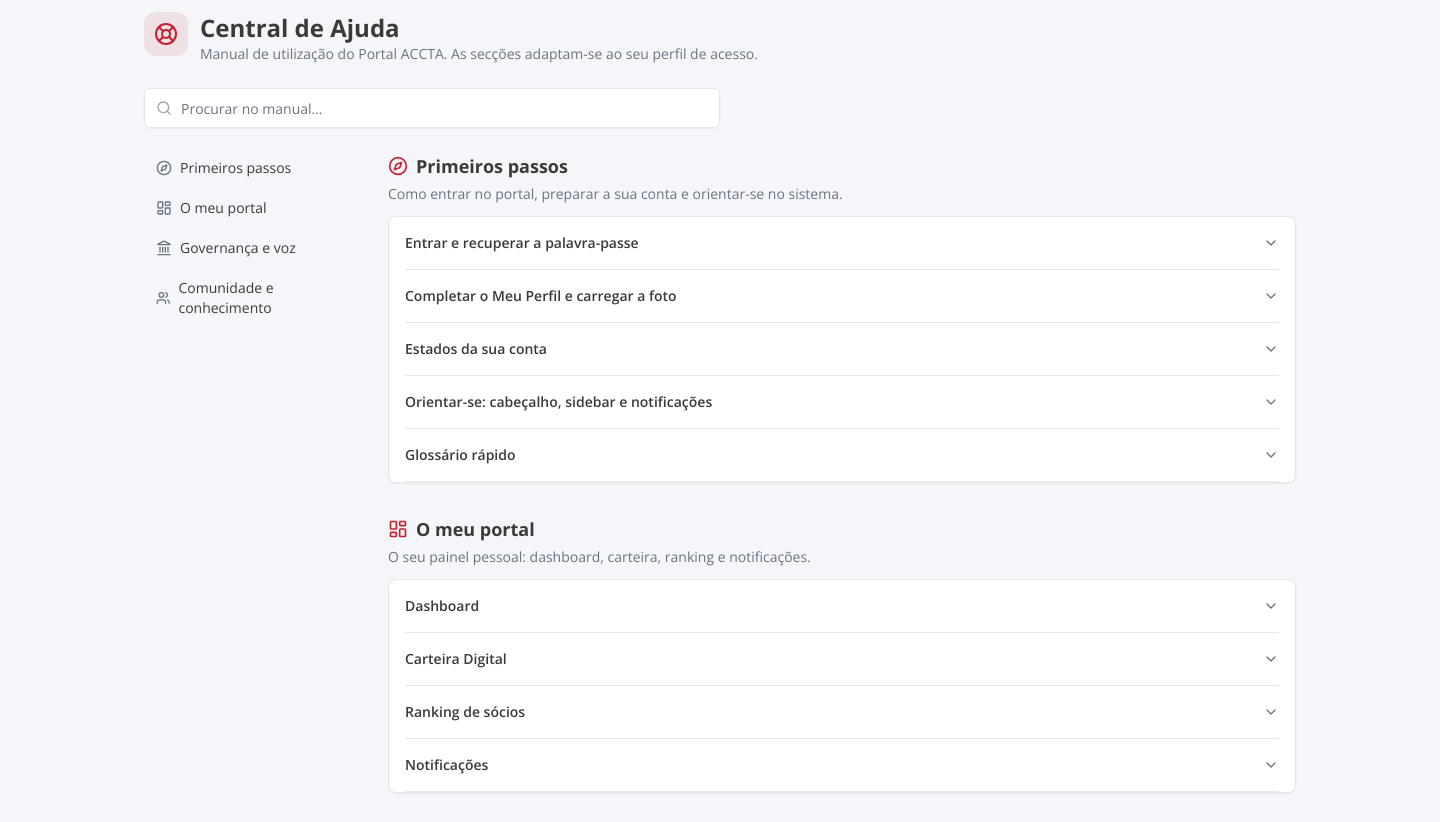
it: pesquisa sem resultados mostra estado vazio
Type "zzz-nao-existe-xpto" into the search field with test id "ajuda-search" at (432, 108), box 144,88 -> 720,128
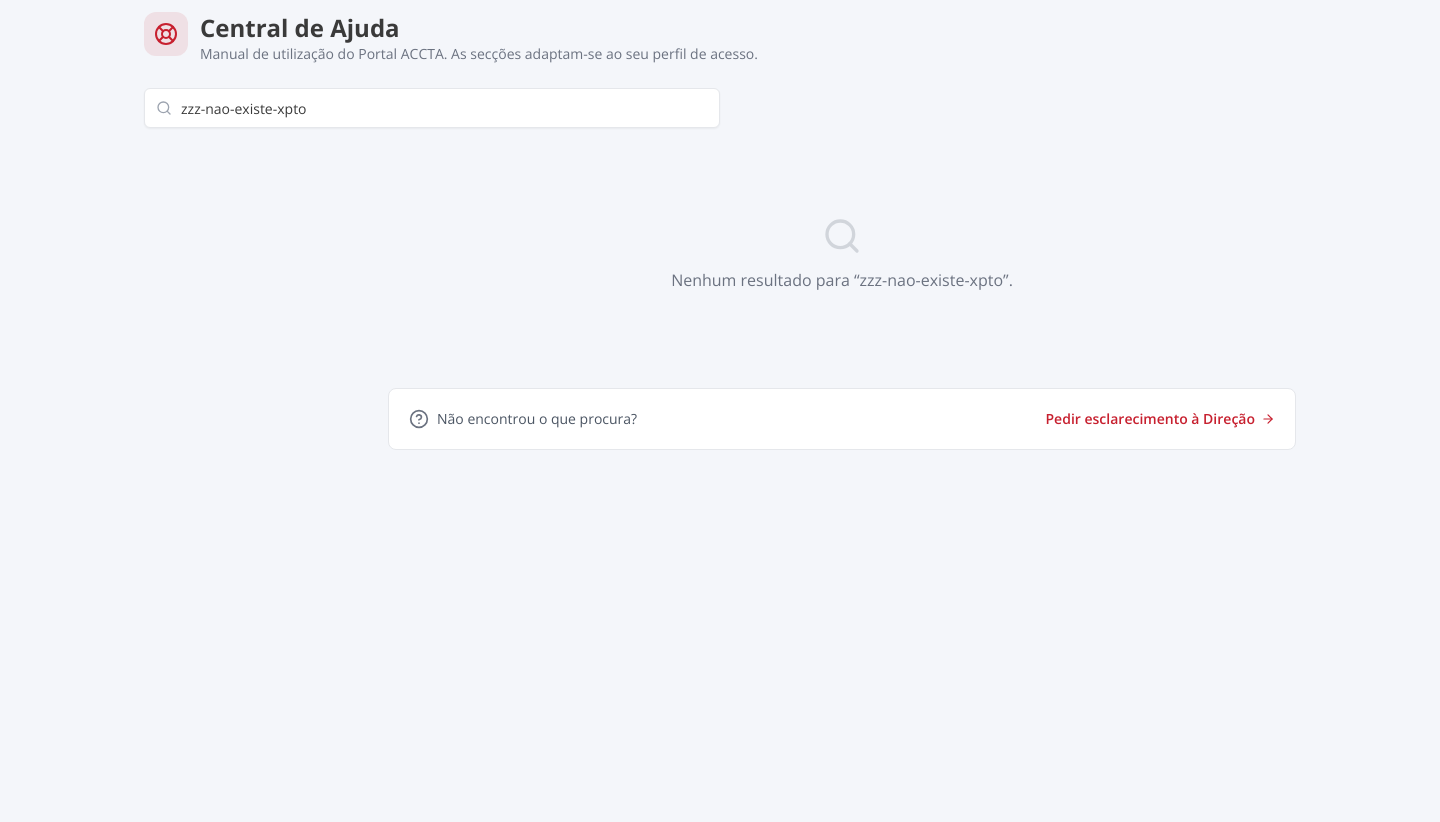
Expected: the element with test id "ajuda-vazio" is shown, 671,216 -> 1013,291
